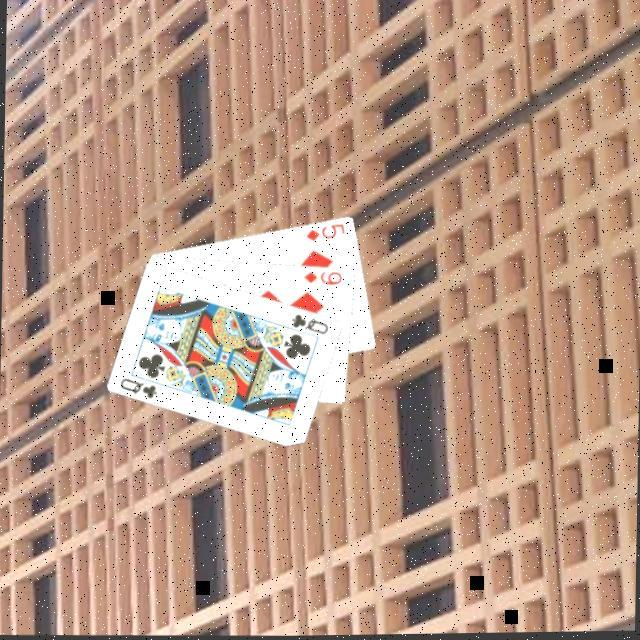5D: (303, 218, 348, 244)
9D: (301, 266, 345, 288)
QC: (289, 310, 332, 338), (118, 374, 161, 402)
